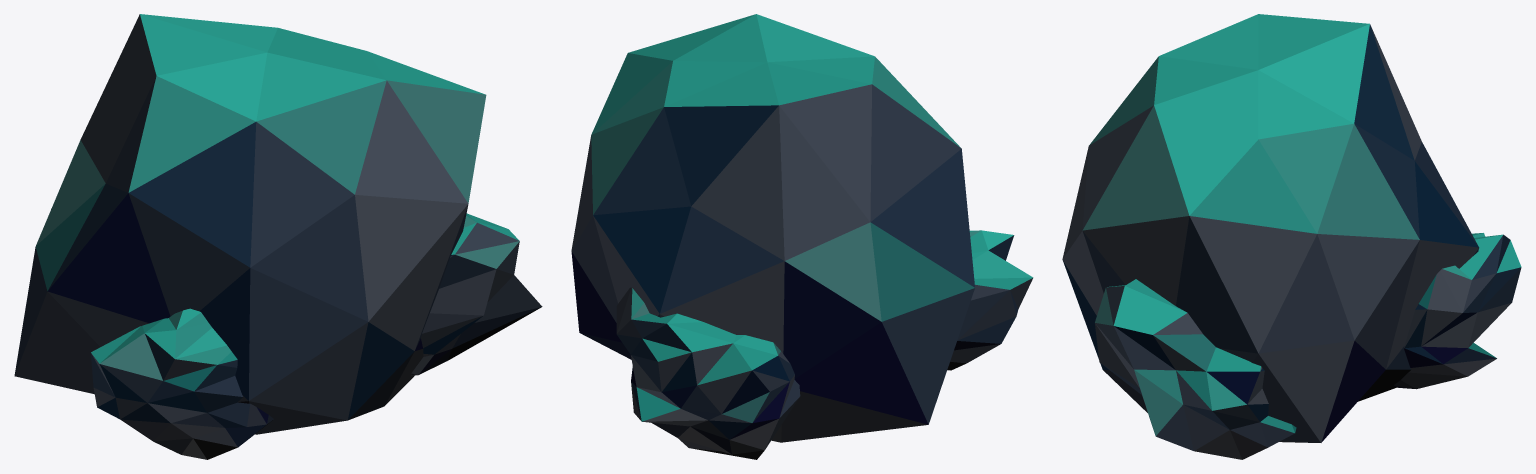
File: batu_boulder_basalt_572917.glb
3 renders of one model, left to right at view 1: azimuth 30°, elevation 25°; view 2: azimuth 150°, elevation 25°; view 3: azimuth 270°, elevation 25°, orthographic. The views are drawn at different scales.
Visible parts, largest first — view 1: Batu_Jeram_Sungai; view 2: Batu_Jeram_Sungai; view 3: Batu_Jeram_Sungai.
Part boxes in pixels (x1,y1,x2,y2): Batu_Jeram_Sungai: (14,14,542,459); Batu_Jeram_Sungai: (571,14,1033,459); Batu_Jeram_Sungai: (1062,14,1521,459).
Size of the model in its own units: 6.38 by 4.88 by 5.84.
